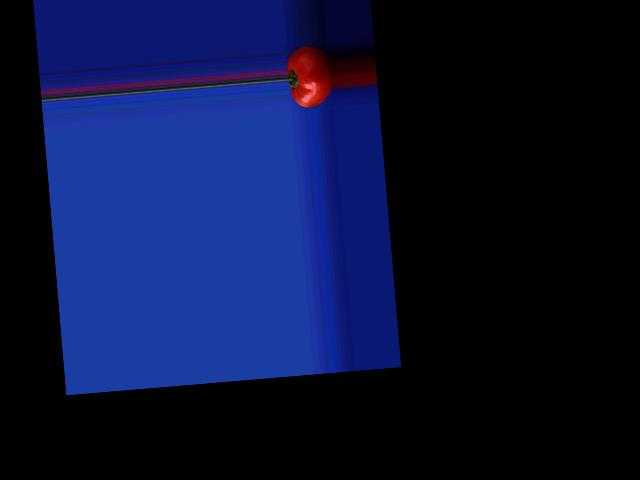tomato: (284, 43, 334, 108)
